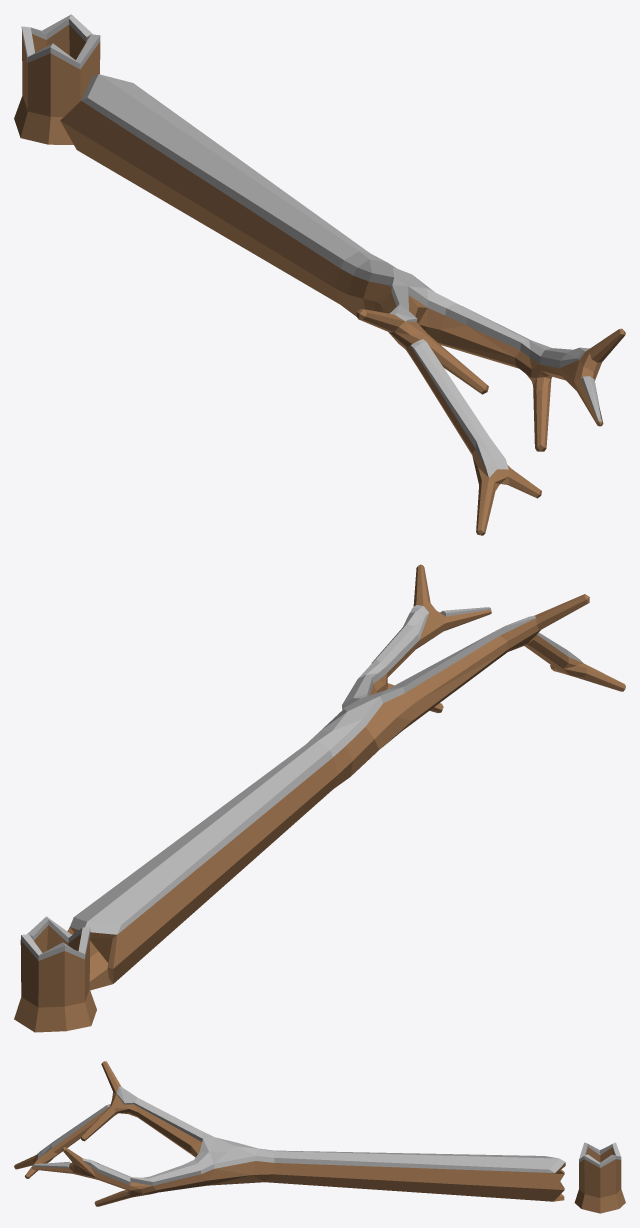
The model's file is Tree_8 Broken Winter.fbx.
3 renders of one model, top to bottom at view 1: azimuth 30°, elevation 25°; view 2: azimuth 150°, elevation 25°; view 3: azimuth 270°, elevation 25°, orthographic. The views are drawn at different scales.
Parts seen in each view (by area): view 1: Tree8BrokenWinter_mesh; view 2: Tree8BrokenWinter_mesh; view 3: Tree8BrokenWinter_mesh.
Part boxes in pixels (x1,y1,x2,y2): Tree8BrokenWinter_mesh: (14, 14, 625, 535); Tree8BrokenWinter_mesh: (14, 564, 625, 1032); Tree8BrokenWinter_mesh: (14, 1061, 625, 1213).
Bounding box in the file's own units: 134 × 105 × 558.
